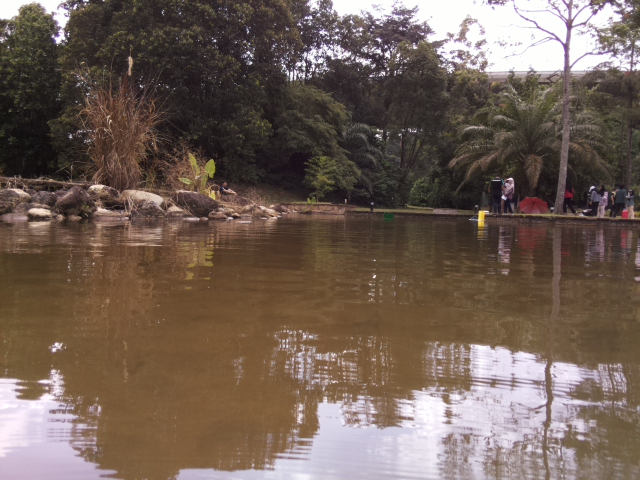obstacle: (383, 211, 396, 219)
